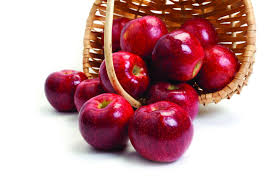apple: (133, 105, 199, 165), (96, 56, 153, 101), (80, 94, 129, 146), (159, 31, 205, 78), (150, 81, 199, 121), (46, 71, 91, 111), (118, 17, 158, 57), (179, 20, 222, 56), (204, 44, 236, 91), (73, 80, 111, 107)
